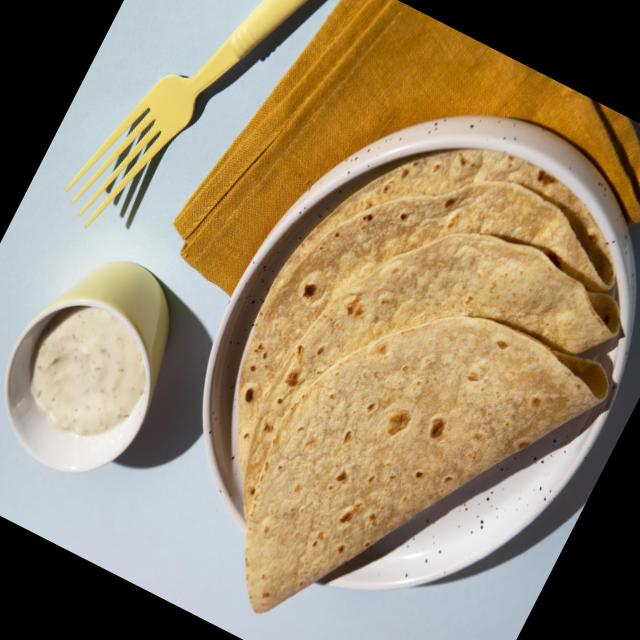roti: (238, 149, 618, 477), (242, 320, 610, 617), (240, 235, 622, 520)
